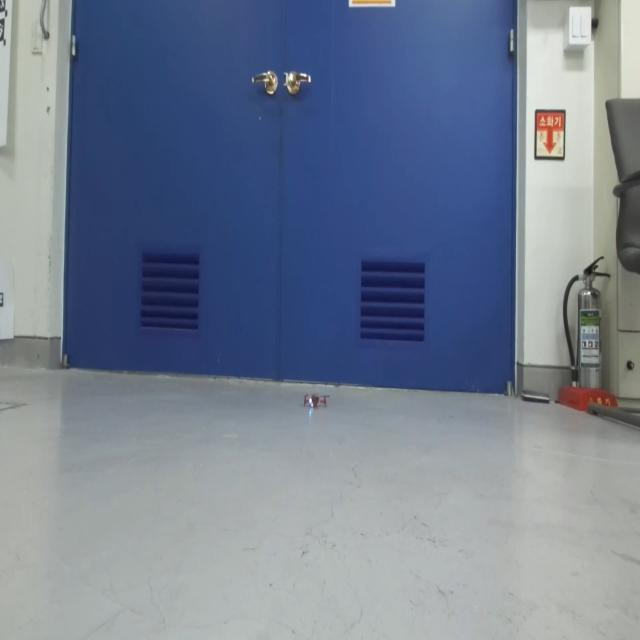crazyflie: (302, 387, 328, 415)
